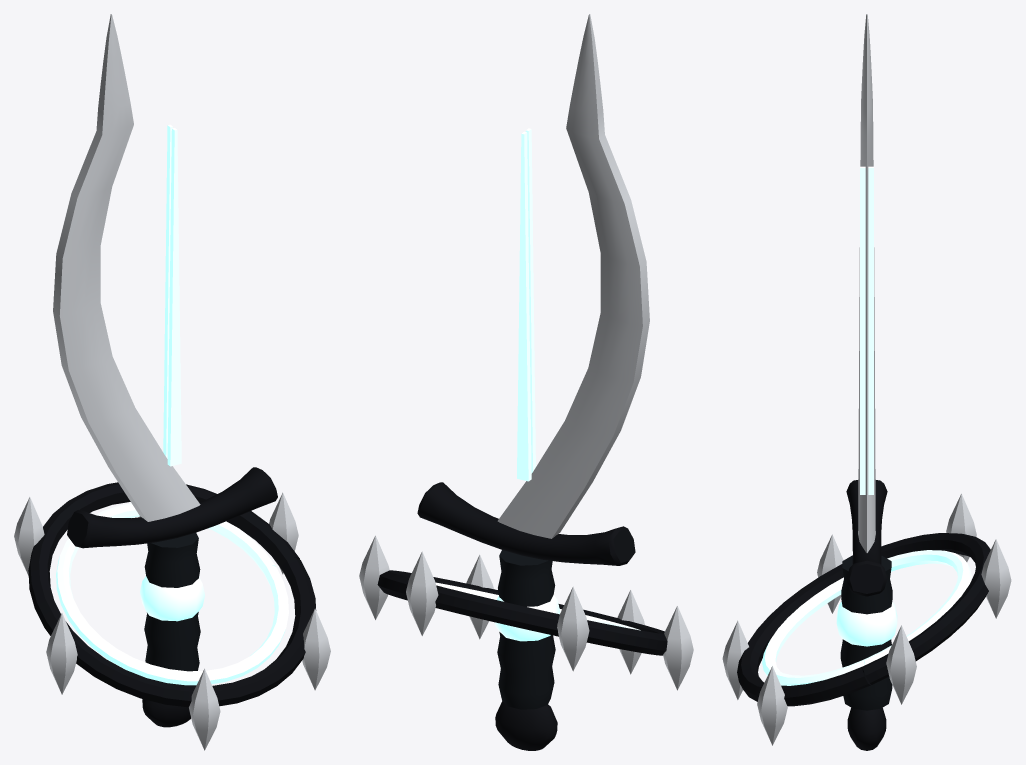
The model's file is esc_w_shadowblade_dagger_1.glb.
The picture shows the model from 3 angles, left to right: view 1: azimuth 30°, elevation 25°; view 2: azimuth 150°, elevation 25°; view 3: azimuth 270°, elevation 25°; orthographic projection. The views are drawn at different scales.
Parts seen in each view (by area): view 1: esc_w_shadowblade_dagger_1; view 2: esc_w_shadowblade_dagger_1; view 3: esc_w_shadowblade_dagger_1.
Boxes of the visible parts, x1=… form: esc_w_shadowblade_dagger_1: x1=14, y1=14, x2=330, y2=750; esc_w_shadowblade_dagger_1: x1=359, y1=14, x2=693, y2=750; esc_w_shadowblade_dagger_1: x1=722, y1=14, x2=1011, y2=750.
Size of the model in its own units: 0.1797 by 0.4382 by 0.1632.
